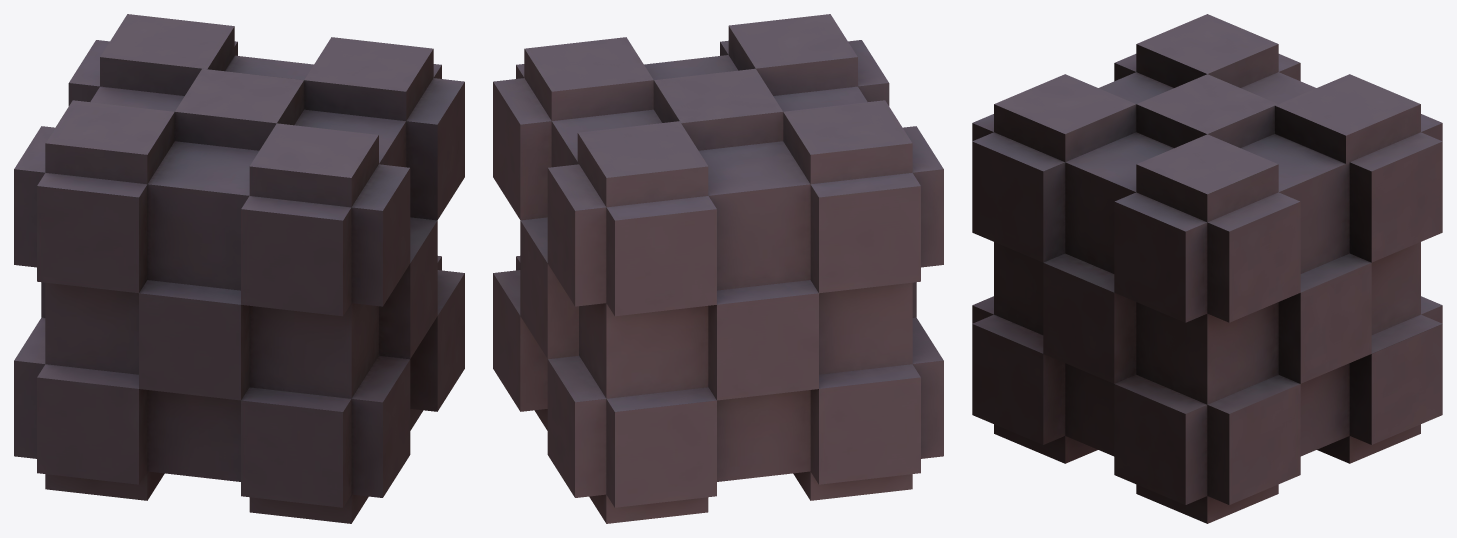
The model's file is sculpture.glb.
3 renders of one model, left to right at view 1: azimuth 30°, elevation 25°; view 2: azimuth 150°, elevation 25°; view 3: azimuth 270°, elevation 25°, orthographic. The views are drawn at different scales.
Visible parts, largest first — view 1: model; view 2: model; view 3: model.
Part boxes in pixels (x1,y1,x2,y2): model: [14, 14, 464, 523]; model: [493, 14, 943, 523]; model: [972, 14, 1442, 523].
Size of the model in its own units: 5.13 by 3.97 by 5.13.
Materials: 1 (1 with a texture image).
